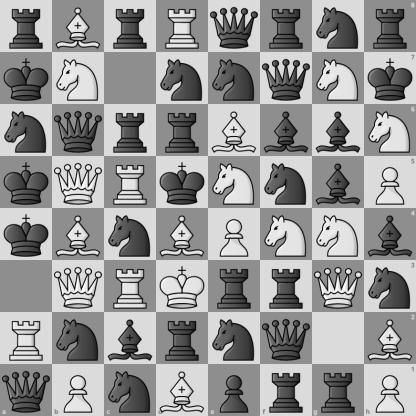B: (156, 364, 209, 416), (364, 312, 416, 364), (53, 1, 104, 52), (53, 209, 104, 260), (157, 209, 208, 260), (209, 105, 260, 156)
K: (157, 261, 208, 312)
N: (364, 104, 416, 156), (53, 53, 104, 104), (209, 157, 260, 208), (261, 209, 312, 260), (313, 53, 364, 104), (313, 209, 364, 260)
P: (364, 156, 416, 209), (52, 364, 104, 416), (364, 364, 416, 416), (209, 209, 260, 260)
Q: (53, 157, 104, 208), (53, 261, 104, 312), (313, 261, 364, 312)
R: (1, 313, 52, 364), (105, 157, 156, 208), (105, 261, 156, 312), (157, 1, 208, 52)
b: (364, 209, 416, 260), (105, 313, 156, 364), (261, 105, 312, 156), (313, 105, 364, 156), (313, 157, 364, 208)
board: (0, 0, 415, 415)
k: (364, 52, 416, 104), (1, 53, 52, 104), (1, 157, 52, 208), (1, 209, 52, 260), (157, 157, 208, 208)
n: (104, 364, 156, 416), (364, 260, 416, 312), (1, 105, 52, 156), (53, 313, 104, 364), (105, 209, 156, 260), (157, 53, 208, 104), (209, 53, 260, 104), (209, 313, 260, 364), (261, 157, 312, 208), (313, 1, 364, 52)
p: (209, 364, 260, 416)
q: (0, 364, 52, 416), (53, 105, 104, 156), (209, 1, 260, 52), (261, 53, 312, 104), (261, 313, 312, 364)
r: (260, 364, 312, 416), (312, 364, 364, 416), (364, 0, 416, 52), (1, 1, 52, 52), (105, 1, 156, 52), (105, 105, 156, 156), (157, 105, 208, 156), (157, 313, 208, 364), (209, 261, 260, 312), (261, 1, 312, 52), (261, 261, 312, 312)
